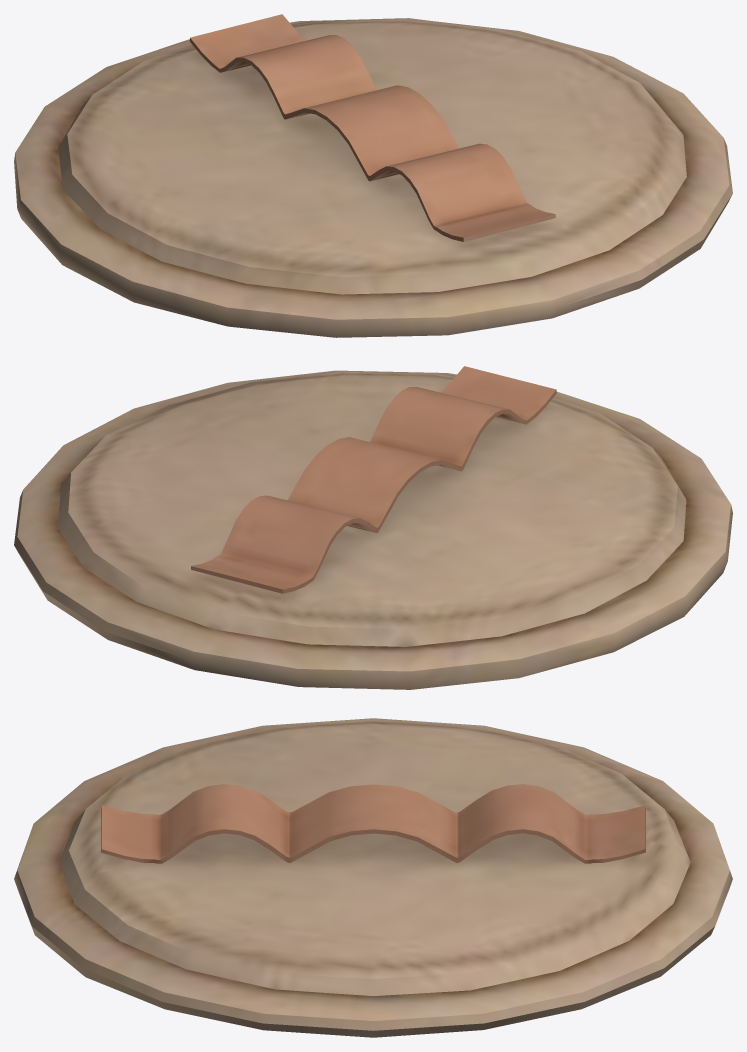
Rendered from powder-puff.glb.
3 views of the same model, one above another, from view 1: azimuth 30°, elevation 25°; view 2: azimuth 150°, elevation 25°; view 3: azimuth 270°, elevation 25° (orthographic).
Visible parts, largest first — view 1: powder-puff; view 2: powder-puff; view 3: powder-puff.
Part boxes in pixels (x1,y1,x2,y2): powder-puff: (14,14,732,337); powder-puff: (14,366,732,689); powder-puff: (14,718,732,1037).
Bounding box in the file's own units: 0.0545 × 0.0074 × 0.0543.
1 material, 1 textured.
